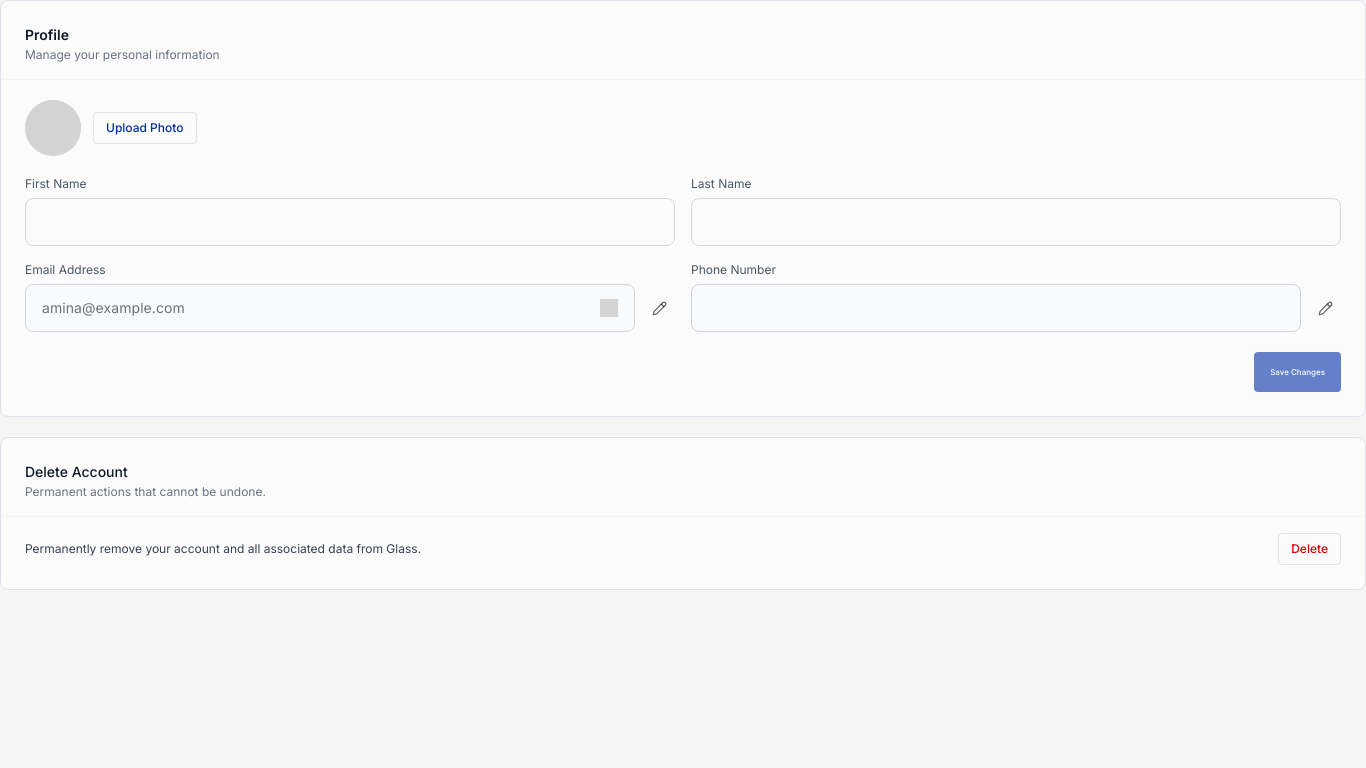
Test: Account deletion flow › the Continue button stays disabled until the literal word DELETE is typed
The width and height of the screenshot is (1366, 768).
Click the button "Delete".
click(1310, 549)  # box 1278,533 -> 1341,565
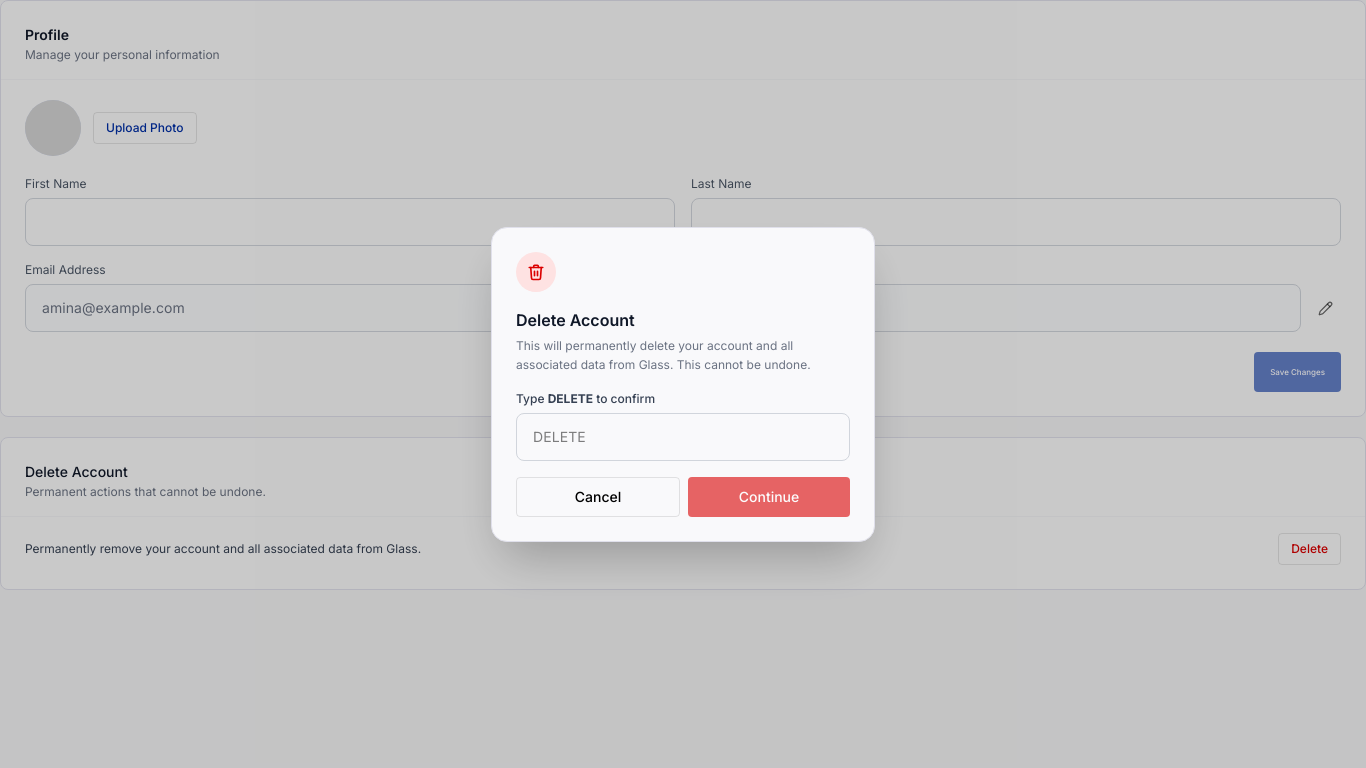
expect the button "Continue" is disabled: met, box 688,476 -> 850,516
Type "delete" into the field with placeholder "DELETE".
click(683, 436); type("delete")  # box 516,412 -> 850,460
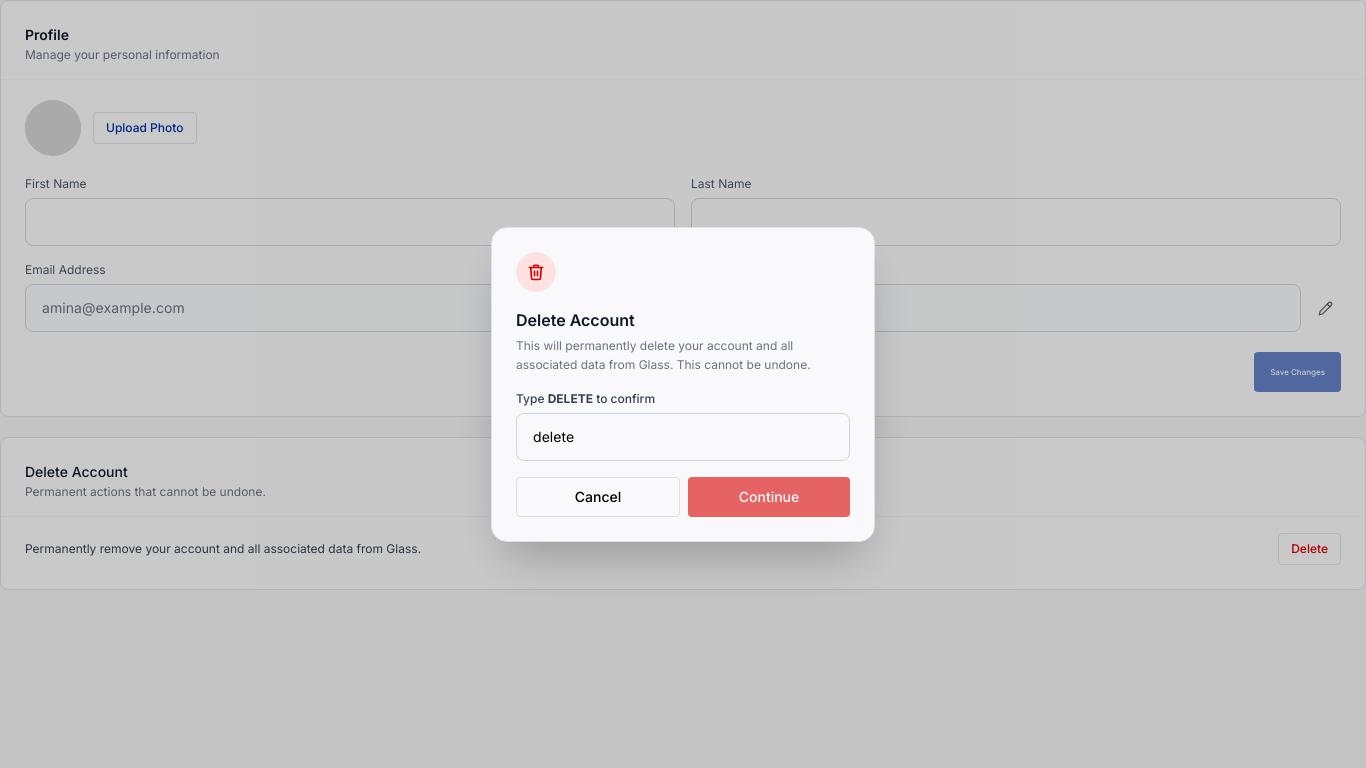
expect the button "Continue" is disabled: met, box 688,476 -> 850,516
Replace the text in the field with placeholder "DELETE" with "DELETE" at (683, 436), box 516,412 -> 850,460
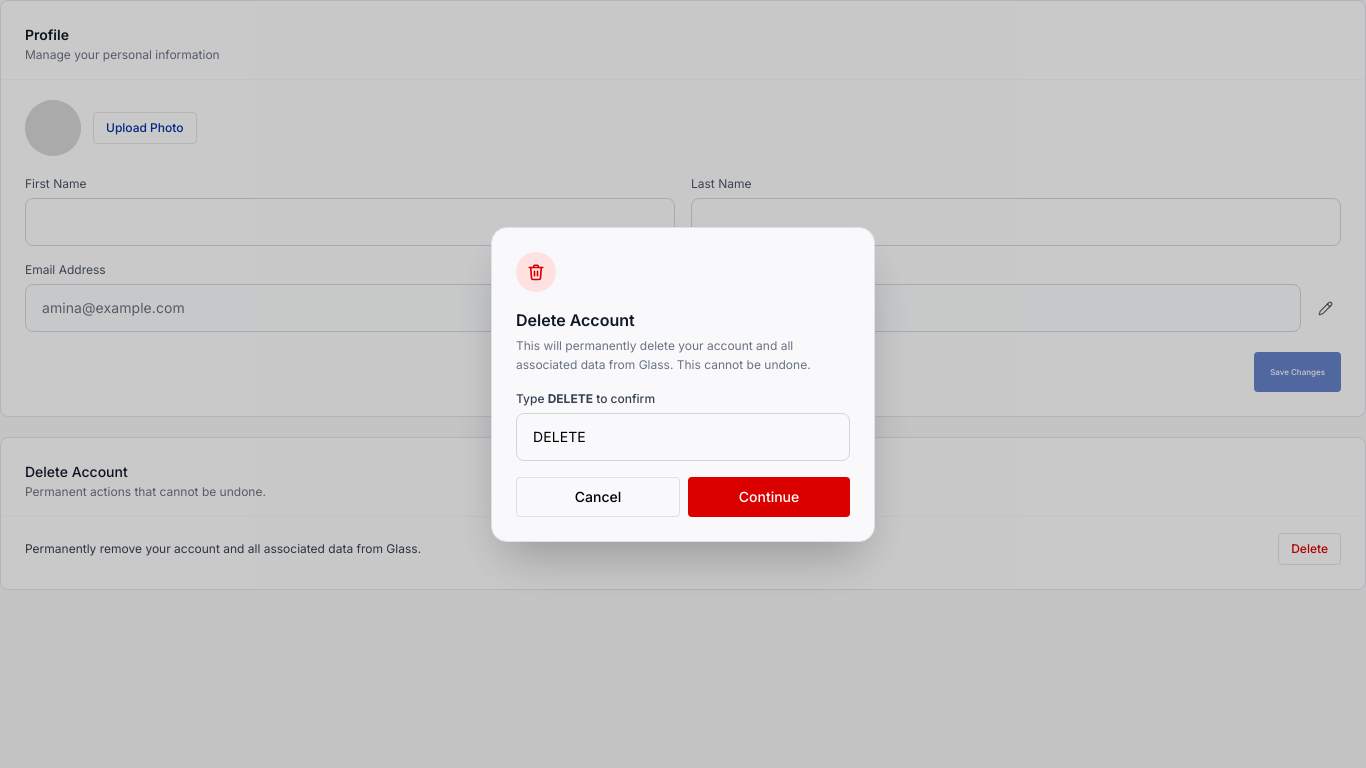
expect the button "Continue" is enabled: met, box 688,476 -> 850,516
